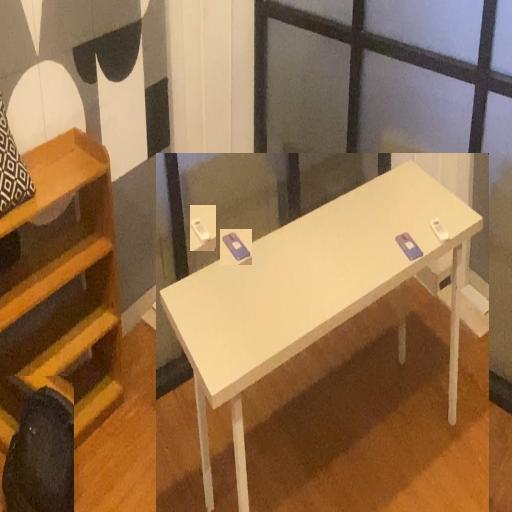bantal: (0, 97, 40, 223)
hp: (220, 229, 252, 265)
lemari: (0, 122, 130, 480)
meja: (156, 153, 489, 512)
remote AC: (190, 205, 216, 251)
tas ransel: (0, 376, 74, 512)
